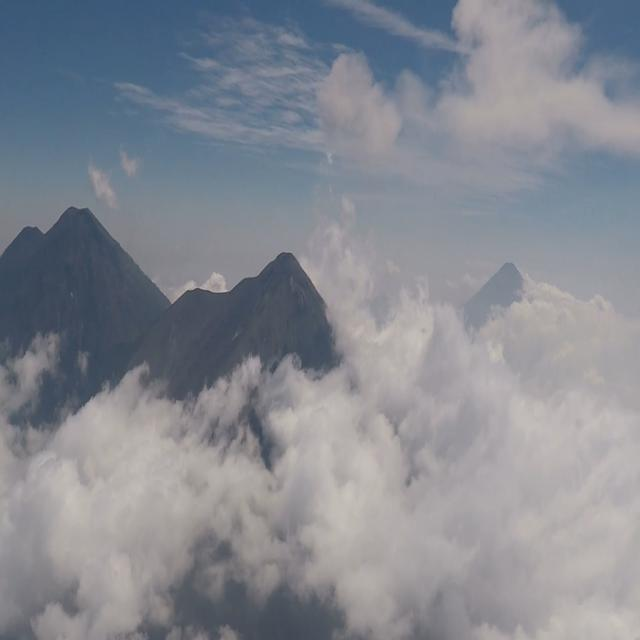Plume: (422, 0, 640, 162), (319, 38, 406, 170)
Summit: (231, 240, 321, 294)
